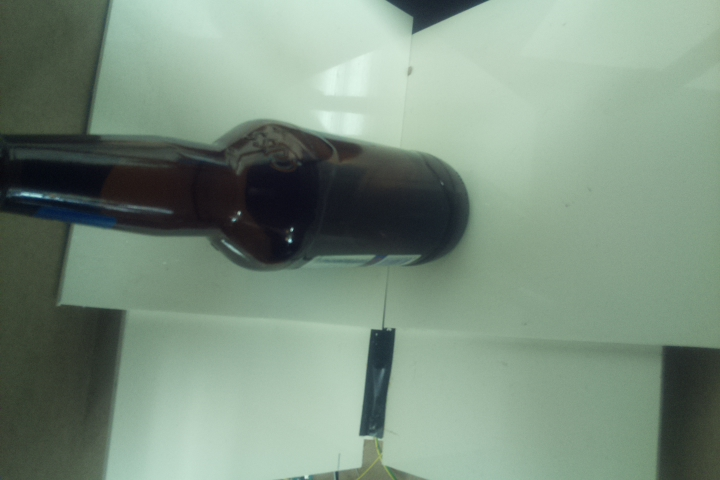makju: (1, 112, 474, 275)
